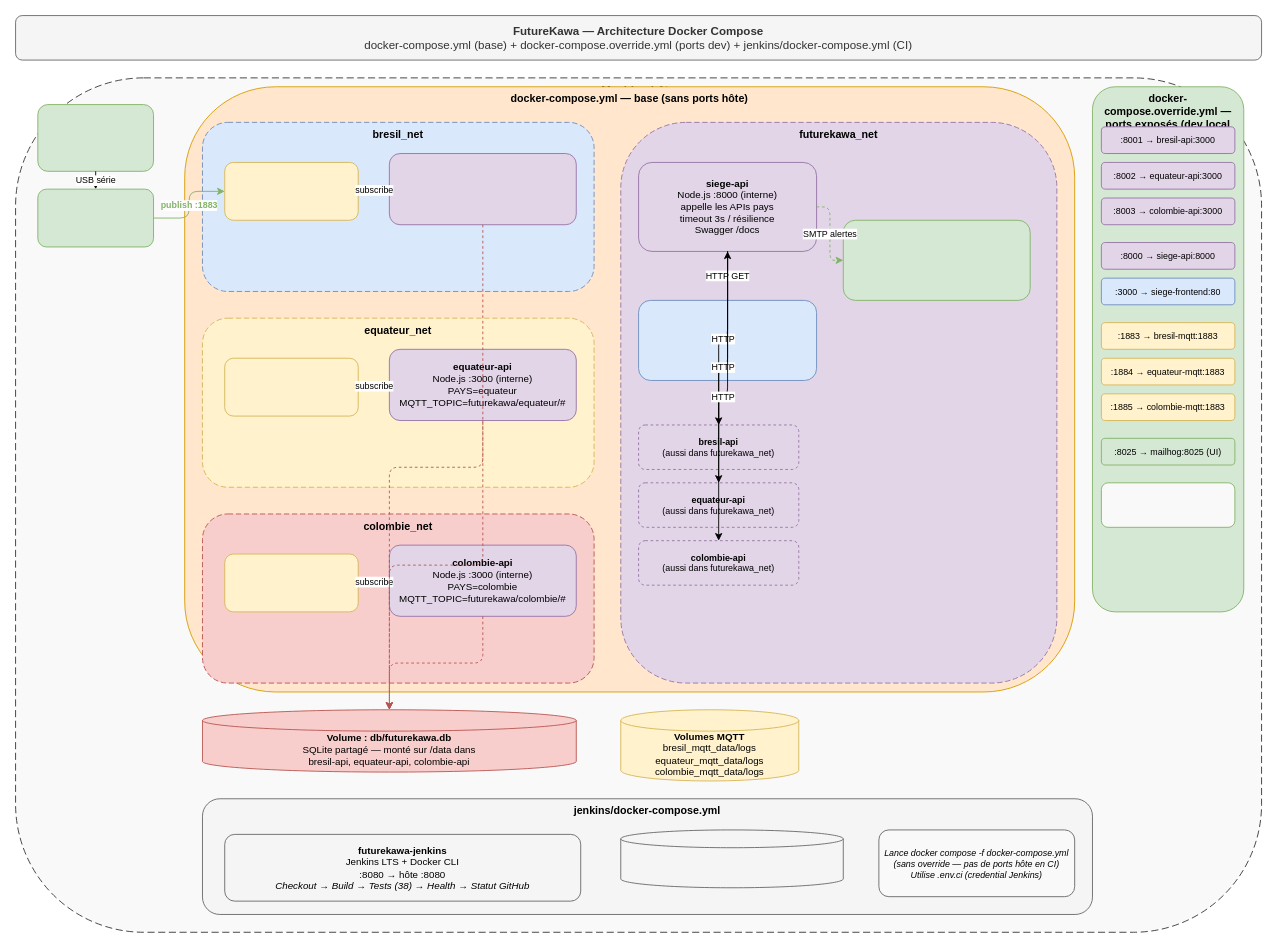
The diagram is 1277 pixels wide and 948 high, and some of its shapes have lost their labels. The centre of each missing label's shape, as x and y in pixels:
"Arduino UNO + DHT Capteur physique liaison série USB" belongs at (95,137).
"bresil-api Node.js :3000 (interne) PAYS=bresil MQTT_TOPIC=futurekawa/bresil/#" belongs at (482,189).
"bresil-mqtt eclipse-mosquitto:2.0 :1883 (interne)" belongs at (291,191).
"colombie-mqtt eclipse-mosquitto:2.0 :1883 (interne)" belongs at (291,582).
"equateur-mqtt eclipse-mosquitto:2.0 :1883 (interne)" belongs at (291,386).
"mailhog mailhog:v1.0.1 SMTP :1025 (interne) UI :8025 (interne)" belongs at (936,259).
"mqtt.py Python (hôte) lit série → publie MQTT" belongs at (95,217).
"Non chargé en CI (Jenkins utilise -f docker-compose.yml)" belongs at (1167,504).
"siege-frontend nginx :80 (interne) React + Chart.js proxy /siege → siege-api" belongs at (727,339).
"Volume : jenkins_home config, jobs, plugins persistés" belongs at (731,858).
